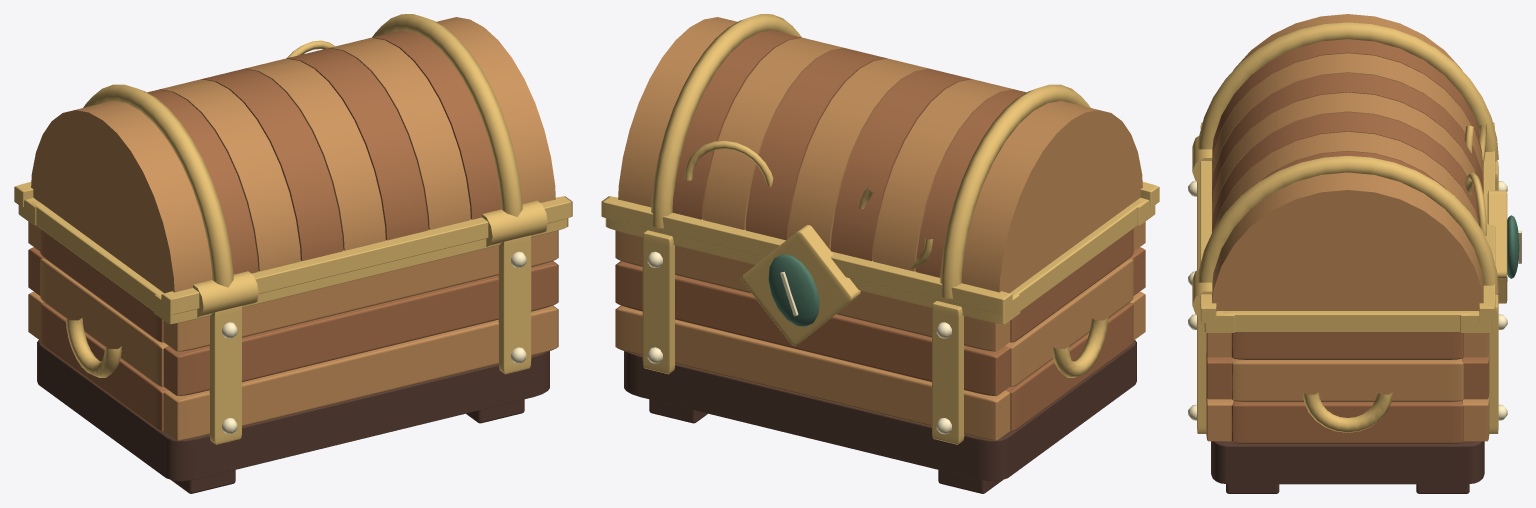
Rendered from treasure-chest.glb.
The picture shows the model from 3 angles, left to right: view 1: azimuth 30°, elevation 25°; view 2: azimuth 150°, elevation 25°; view 3: azimuth 270°, elevation 25°; orthographic projection. The views are drawn at different scales.
Visible parts, largest first — view 1: lid, chest-body; view 2: lid, chest-body; view 3: lid, chest-body.
Boxes of the visible parts, x1=… form: lid: x1=14, y1=14, x2=572, y2=314; chest-body: x1=18, y1=197, x2=568, y2=493; lid: x1=601, y1=14, x2=1159, y2=345; chest-body: x1=605, y1=197, x2=1155, y2=493; lid: x1=1197, y1=14, x2=1521, y2=322; chest-body: x1=1188, y1=136, x2=1507, y2=493.
Bounding box in the file's own units: 1.94 × 1.56 × 1.44.
